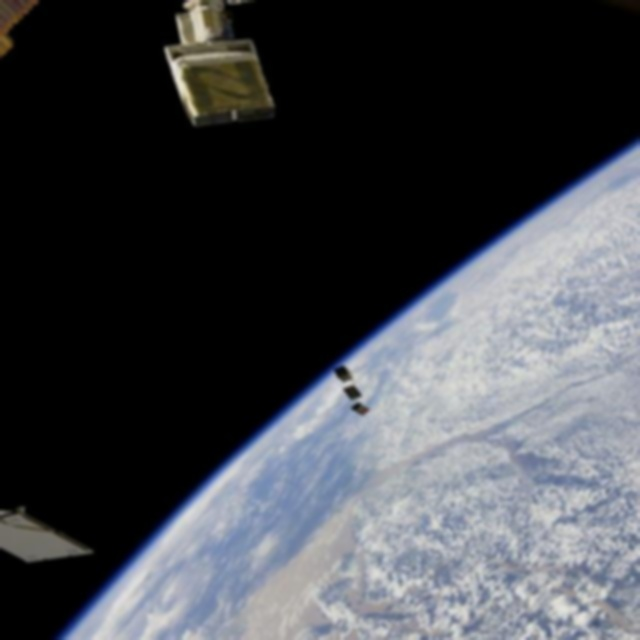satellite: (143, 5, 324, 139), (342, 389, 378, 411), (330, 362, 362, 386)
